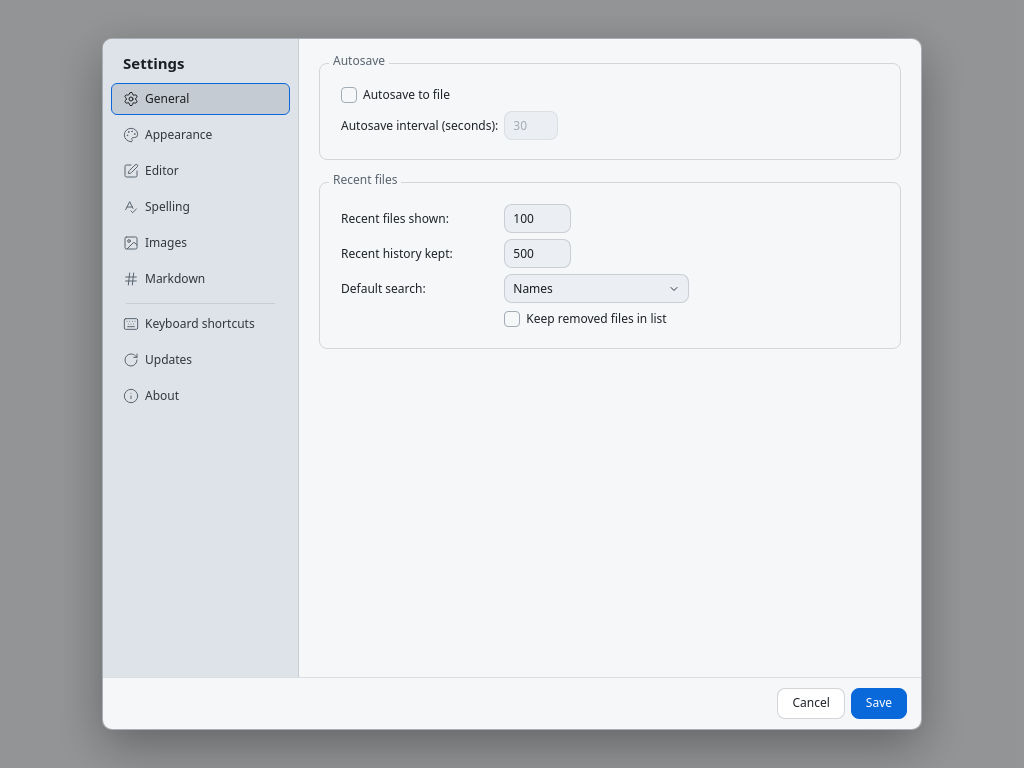
Test case: spelling preferences › retries capability loading and shows system-controlled languages with the shared dictionary note
Click the tab "Spelling" at (200, 207), box [111,191,290,223]
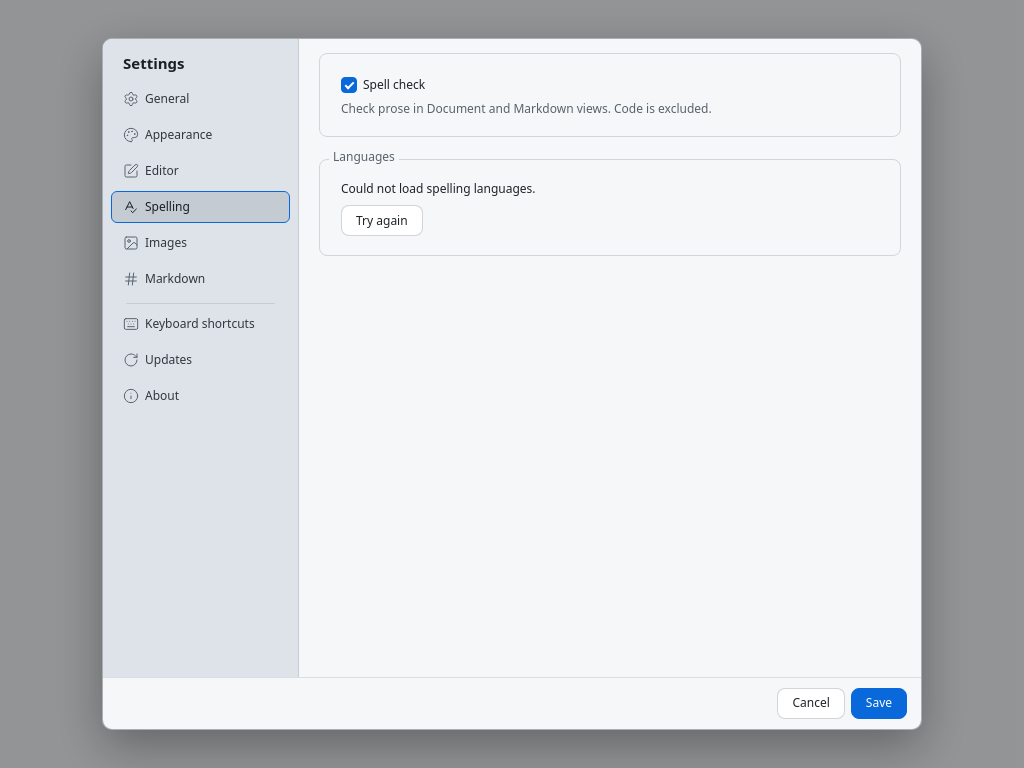
Expected: the message "Could not load spelling languages." is shown, [341,181,536,197]
Click the button "Try again" at (382, 221), box [341,205,423,236]
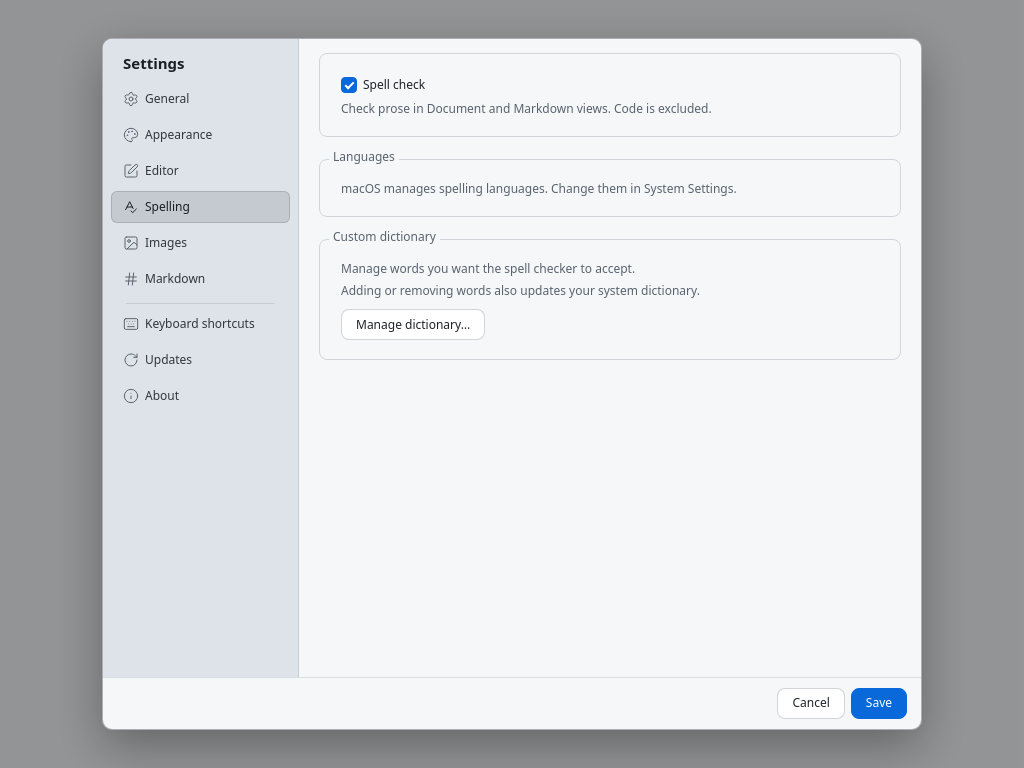
Expected: the text "macOS manages spelling languages. Change them in System Settings." is shown, [341,180,737,197]
Expected: the text "Adding or removing words also updates your system dictionary." is shown, [341,282,700,299]
Click the button "Manage dictionary…" at (413, 325), box [341,309,485,340]
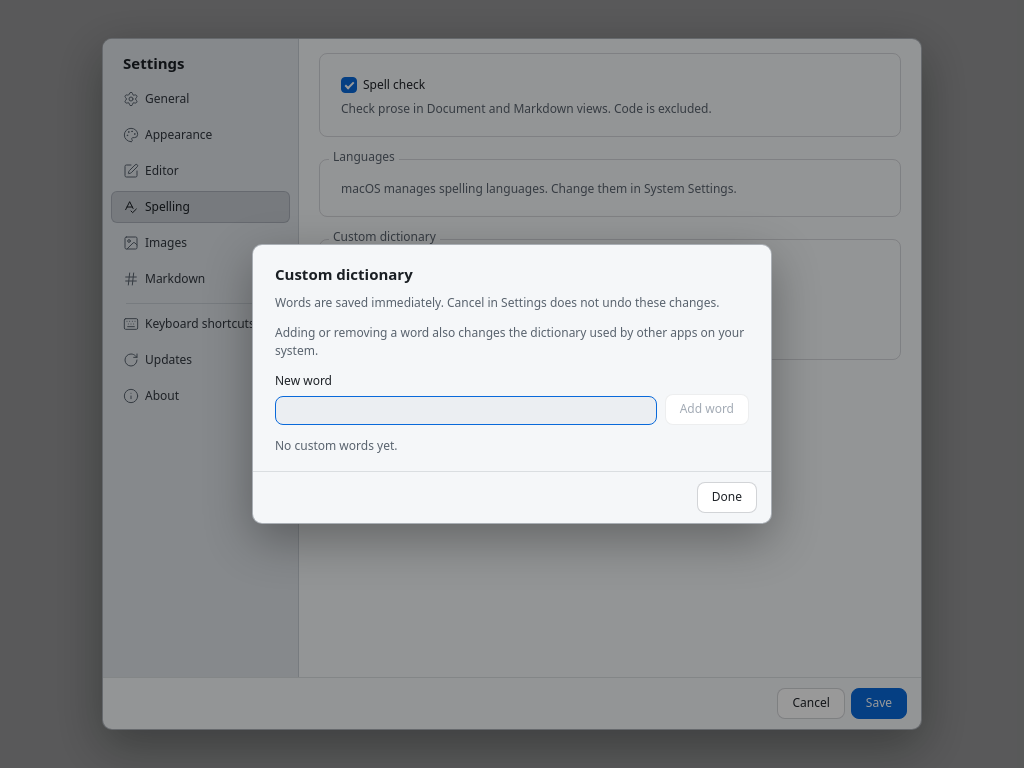
Expected: the text "Adding or removing a word also changes" is shown, [275,324,744,359]
